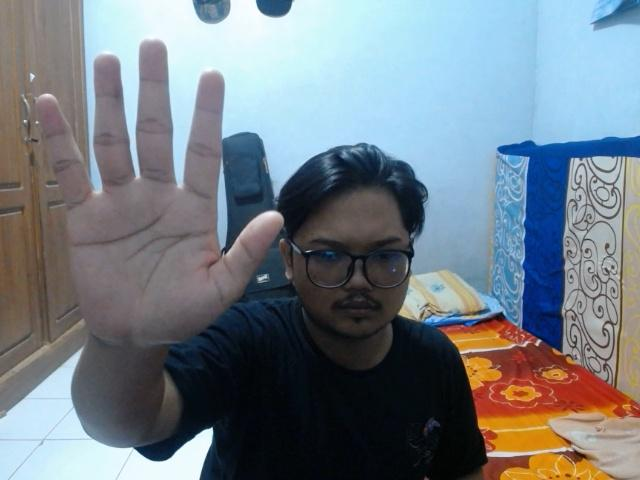Release: (27, 33, 289, 355)
